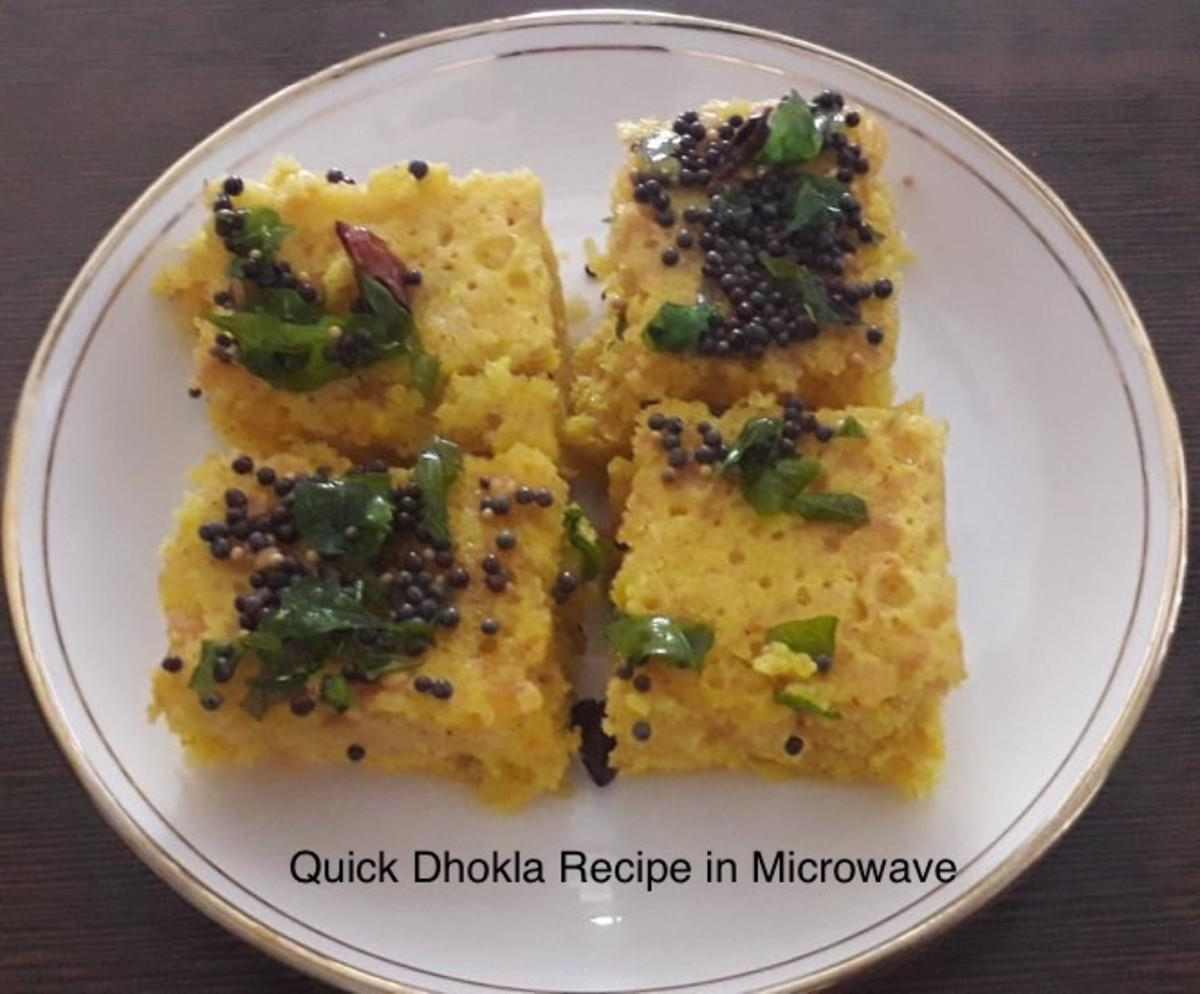dhokla: (177, 101, 955, 785)
